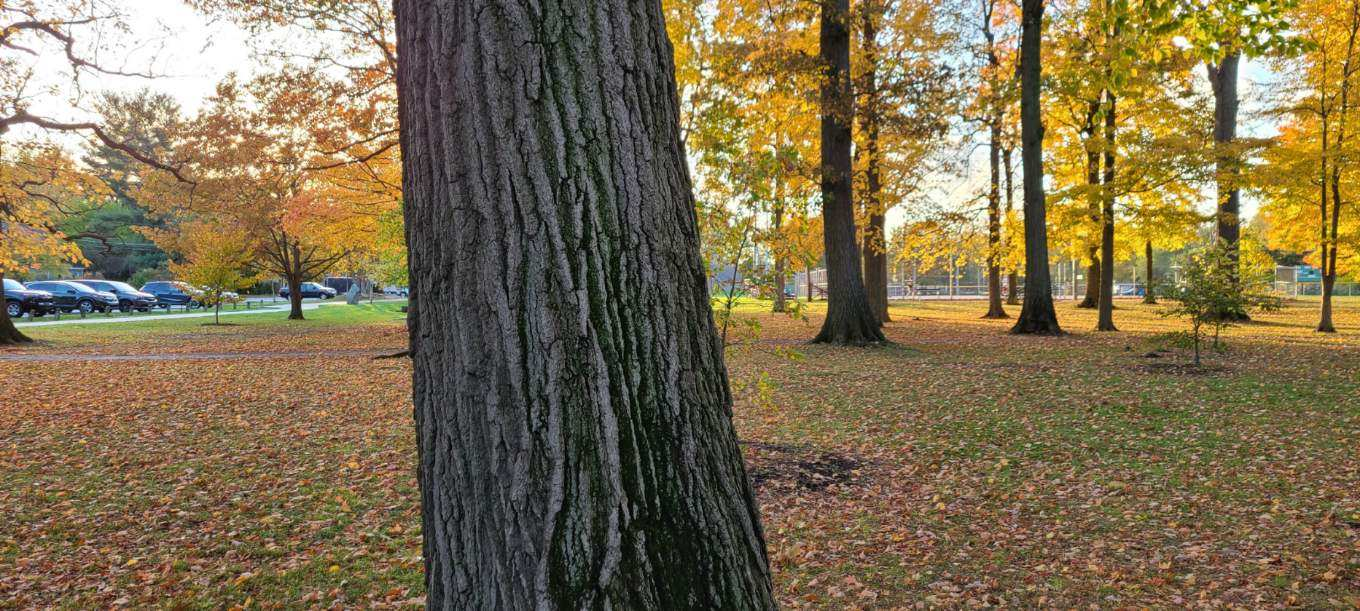tree: (400, 1, 772, 607), (808, 1, 883, 350), (1015, 1, 1067, 337), (1303, 1, 1353, 335), (1205, 1, 1247, 323), (973, 1, 1011, 319), (864, 14, 889, 325), (267, 158, 315, 317), (1100, 1, 1117, 334), (1080, 69, 1101, 309), (1141, 121, 1159, 305)
